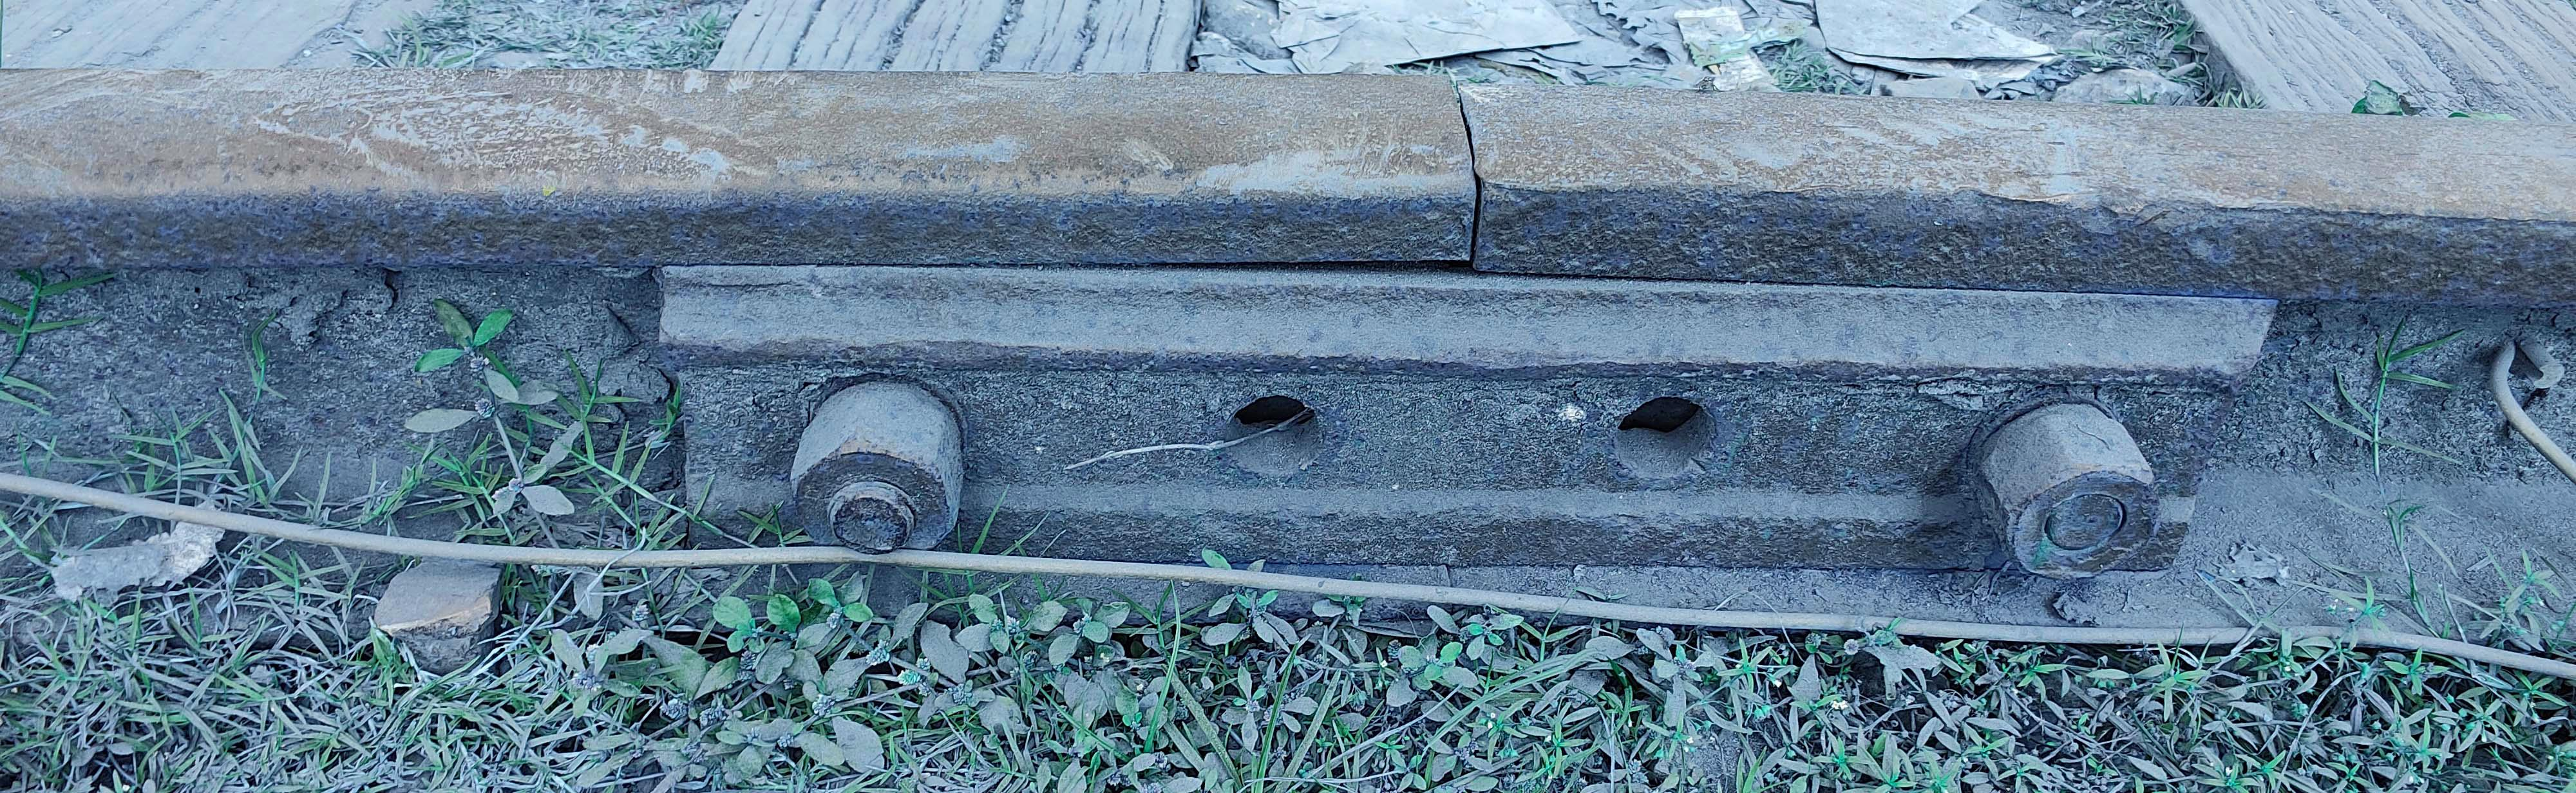error2: (1403, 31, 1577, 323)
